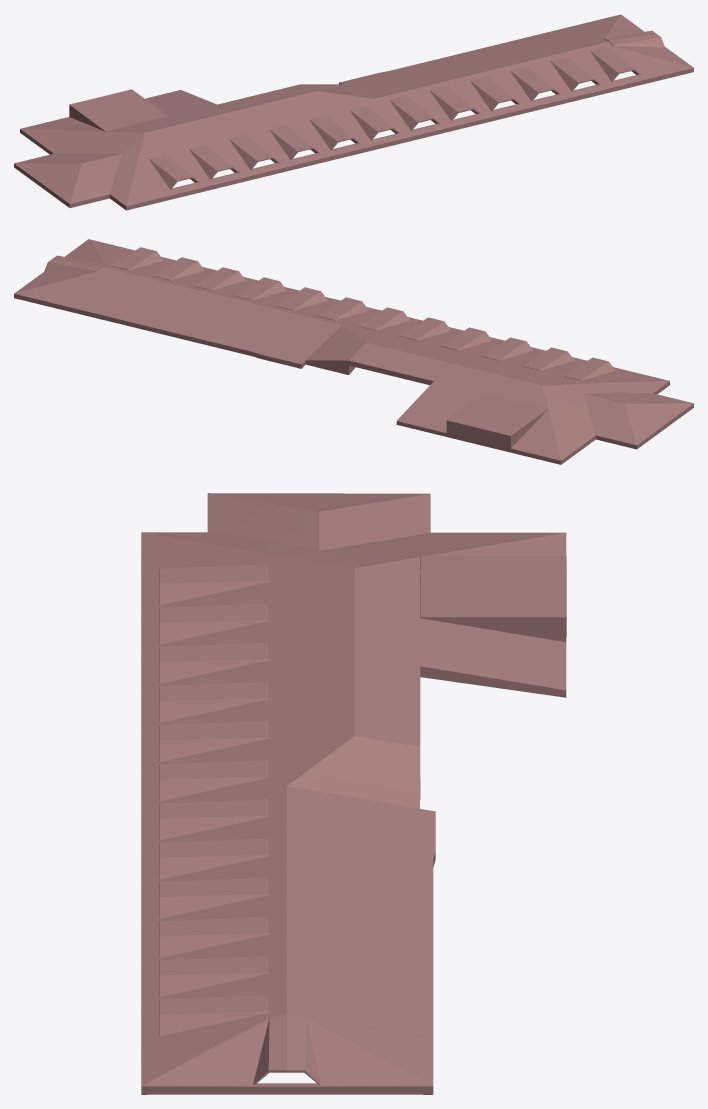
File: west_wing_roof.fbx
The picture shows the model from 3 angles, top to bottom: view 1: azimuth 30°, elevation 25°; view 2: azimuth 150°, elevation 25°; view 3: azimuth 270°, elevation 25°; orthographic projection. The views are drawn at different scales.
Parts seen in each view (by area): view 1: WestWing_Roof; view 2: WestWing_Roof; view 3: WestWing_Roof.
Boxes of the visible parts, bbox=[...] form: WestWing_Roof: bbox=[14, 14, 693, 210]; WestWing_Roof: bbox=[14, 239, 693, 464]; WestWing_Roof: bbox=[141, 493, 566, 1094].
Bounding box in the file's own units: 5785 × 193 × 1752.
